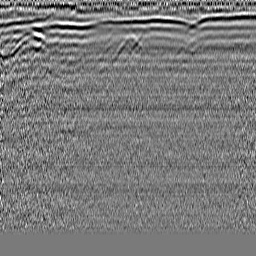cavity: (113, 33, 142, 58)
